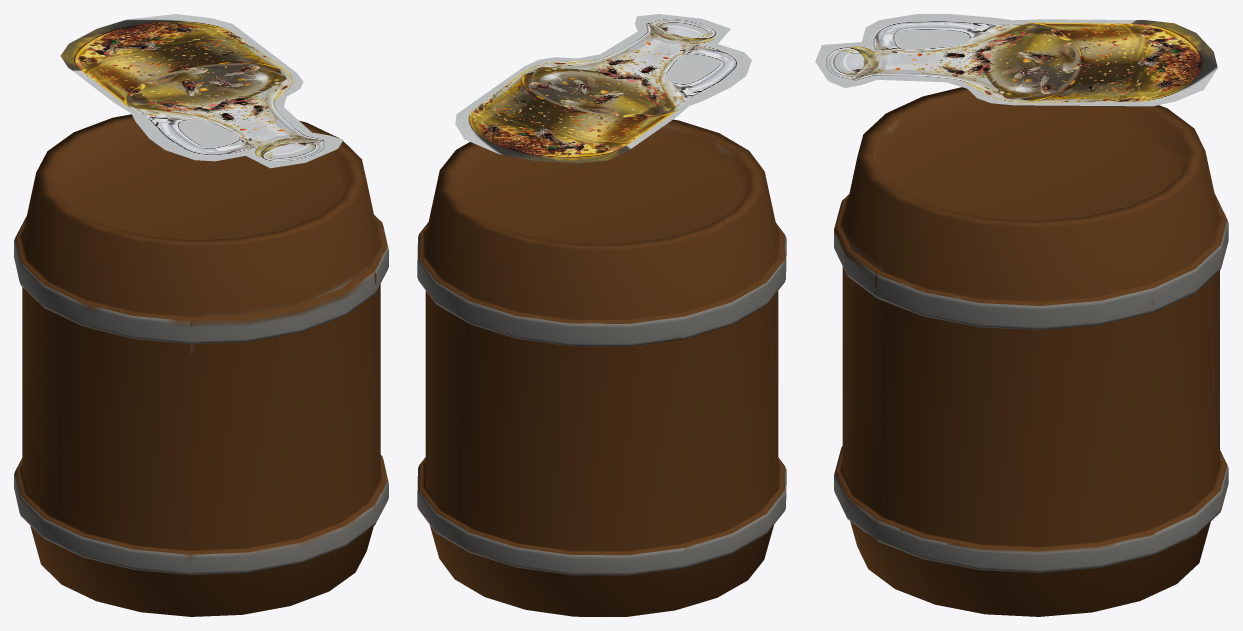
File: Ingredientes_8_AceitedeTroll.fbx
The picture shows the model from 3 angles, left to right: view 1: azimuth 30°, elevation 25°; view 2: azimuth 150°, elevation 25°; view 3: azimuth 270°, elevation 25°; orthographic projection. The views are drawn at different scales.
Parts seen in each view (by area): view 1: Barril_mesh, MK_Ingredientes_8_AceitedeTroll; view 2: Barril_mesh, MK_Ingredientes_8_AceitedeTroll; view 3: Barril_mesh, MK_Ingredientes_8_AceitedeTroll.
Boxes of the visible parts, x1,y1,x2,y2 form: Barril_mesh: (14,114,388,616); MK_Ingredientes_8_AceitedeTroll: (60,14,343,168); Barril_mesh: (417,119,786,616); MK_Ingredientes_8_AceitedeTroll: (455,14,751,163); Barril_mesh: (834,87,1228,616); MK_Ingredientes_8_AceitedeTroll: (815,14,1217,106).
Bounding box in the file's own units: 1.84 × 2.48 × 1.93.
2 materials, 2 textured.
